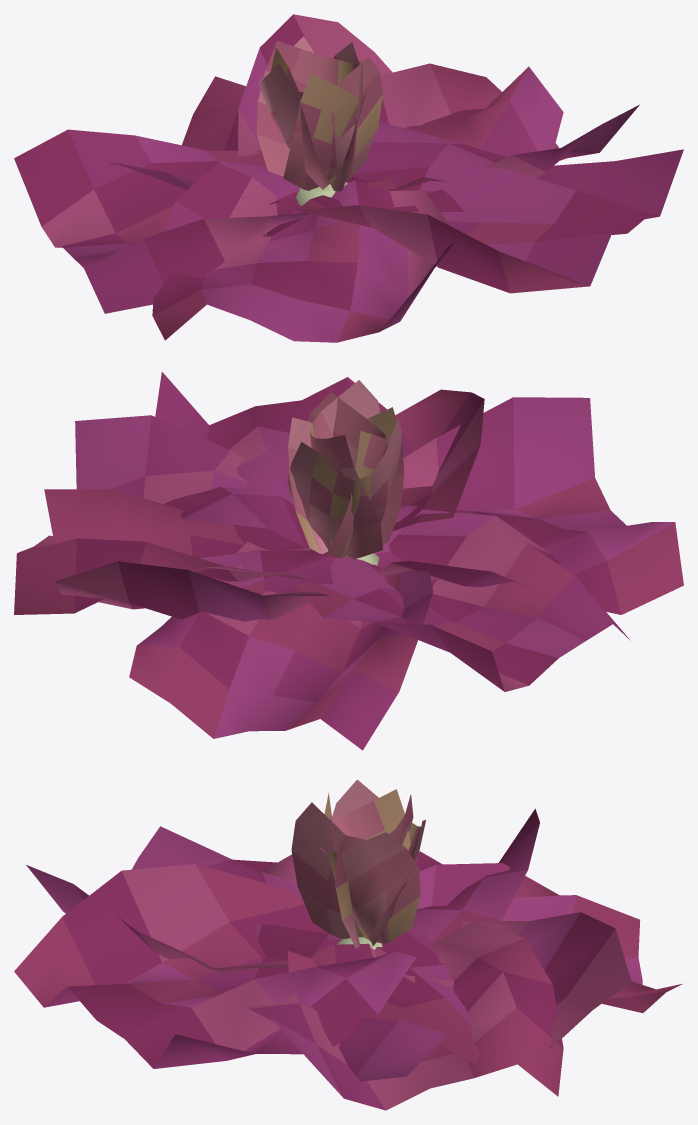
Rendered from salade_rouge_jeune.glb.
The picture shows the model from 3 angles, top to bottom: view 1: azimuth 30°, elevation 25°; view 2: azimuth 150°, elevation 25°; view 3: azimuth 270°, elevation 25°; orthographic projection. The views are drawn at different scales.
Visible parts, largest first — view 1: Salade_Feuilles_ext, Salade_Feuilles_int; view 2: Salade_Feuilles_ext, Salade_Feuilles_int; view 3: Salade_Feuilles_ext, Salade_Feuilles_int.
Part boxes in pixels (x1,y1,x2,y2): Salade_Feuilles_ext: [14, 14, 683, 342]; Salade_Feuilles_int: [256, 36, 382, 191]; Salade_Feuilles_ext: [14, 372, 683, 750]; Salade_Feuilles_int: [287, 380, 404, 559]; Salade_Feuilles_ext: [14, 808, 682, 1110]; Salade_Feuilles_int: [291, 779, 425, 948].
Size of the model in its own units: 0.2698 by 0.1055 by 0.2873.
